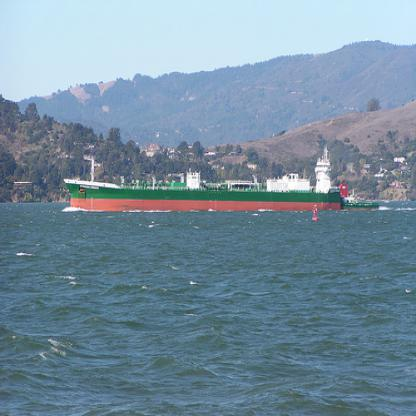boat: (63, 143, 344, 213), (342, 194, 380, 212)
